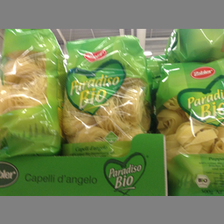pasta: (62, 36, 153, 154), (155, 58, 224, 195), (1, 28, 63, 156)
